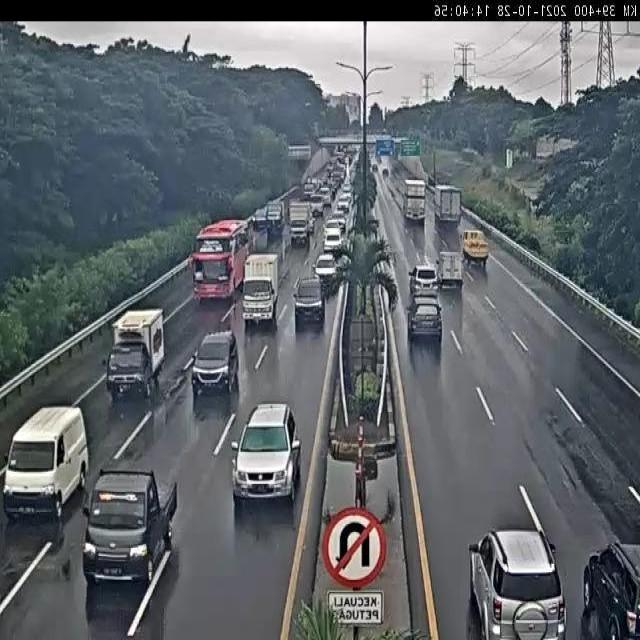Bus: (190, 219, 252, 301)
Car: (470, 520, 571, 640), (231, 401, 301, 503), (191, 331, 239, 398), (292, 274, 325, 330), (408, 296, 443, 346), (314, 253, 340, 294), (324, 223, 344, 251), (337, 193, 351, 214), (332, 212, 346, 233), (319, 187, 331, 207)
Truck: (79, 460, 180, 591), (105, 308, 166, 400), (242, 253, 282, 328), (434, 183, 462, 226), (288, 200, 312, 247), (403, 178, 427, 224), (438, 251, 464, 291), (410, 262, 439, 296), (462, 230, 489, 265), (303, 179, 315, 199)
Van: (4, 406, 89, 528)
